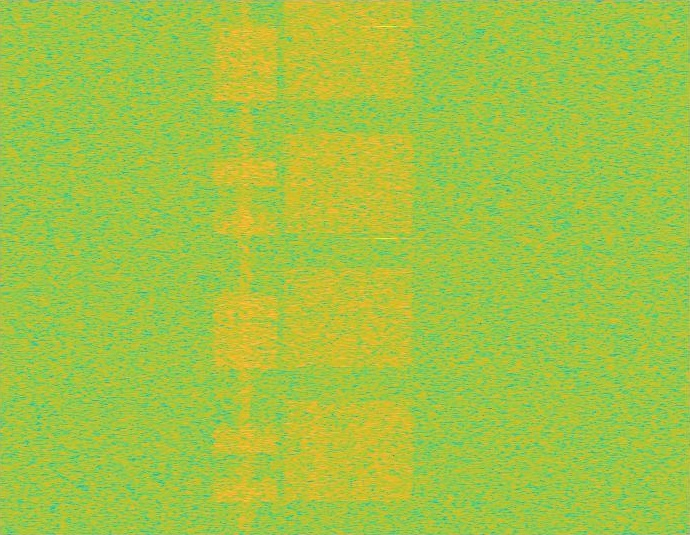5G: (280, 0, 418, 534)
DSSS: (237, 0, 253, 534)
LTE: (211, 0, 280, 534)
Radar: (379, 0, 392, 534)
